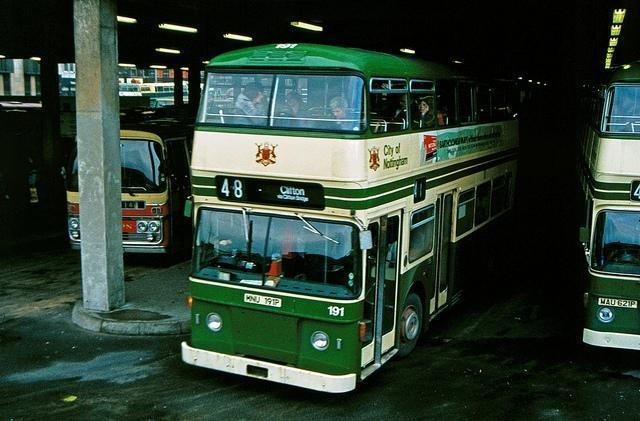bus: (174, 44, 525, 397), (565, 64, 640, 352), (66, 110, 195, 266), (119, 84, 144, 95)
